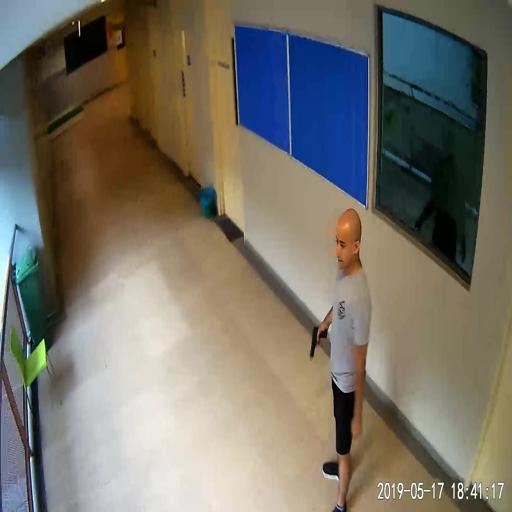pistol: (309, 326, 326, 357)
